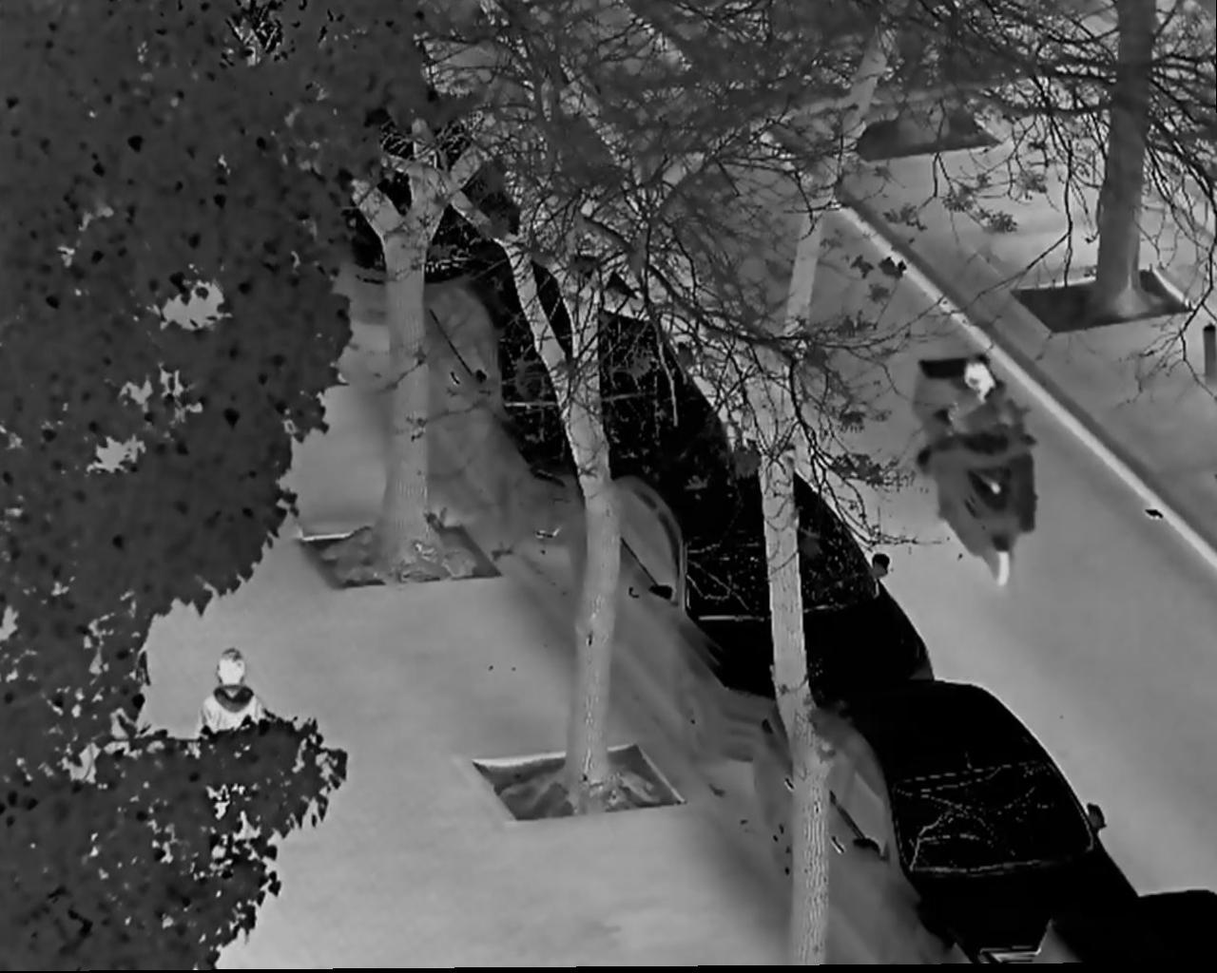person: (190, 649, 271, 858), (944, 352, 1030, 508)
